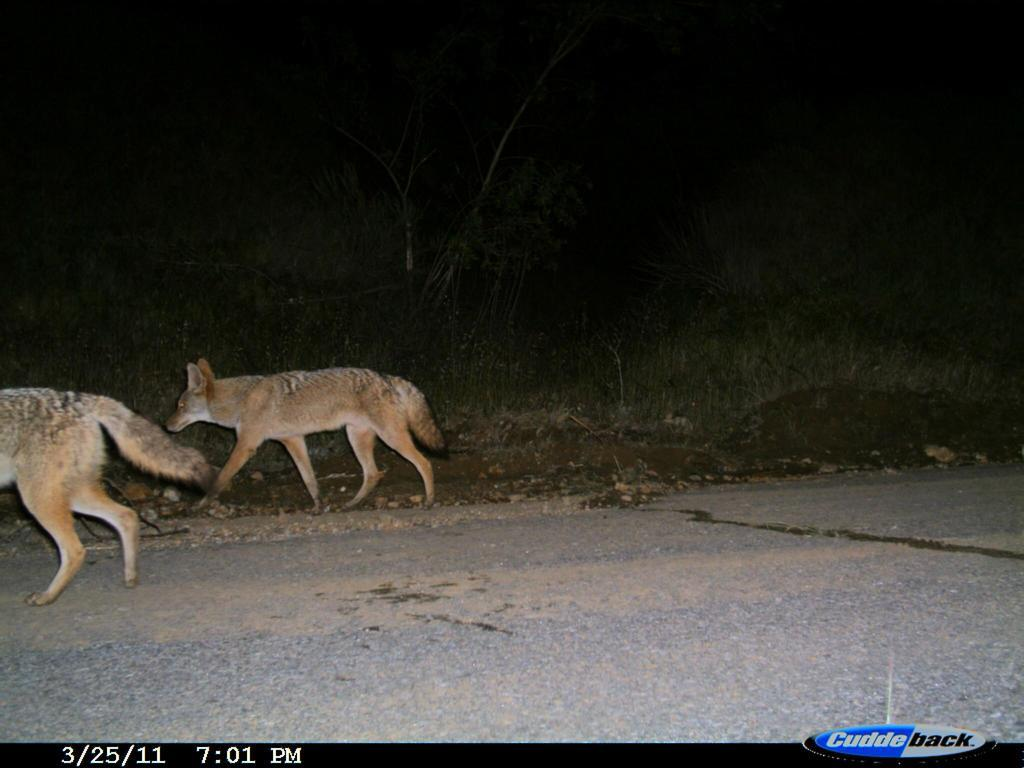coyote: (3, 373, 217, 620), (162, 353, 455, 520)
